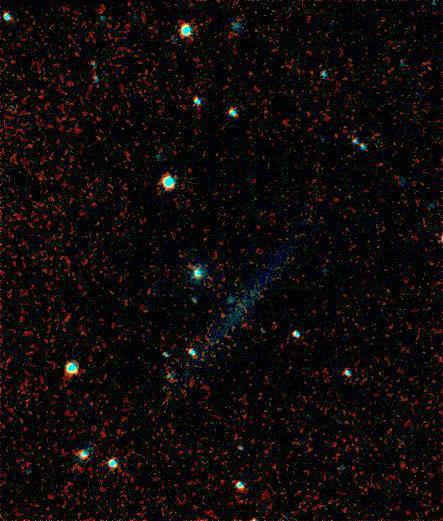star: (324, 122, 354, 152)
